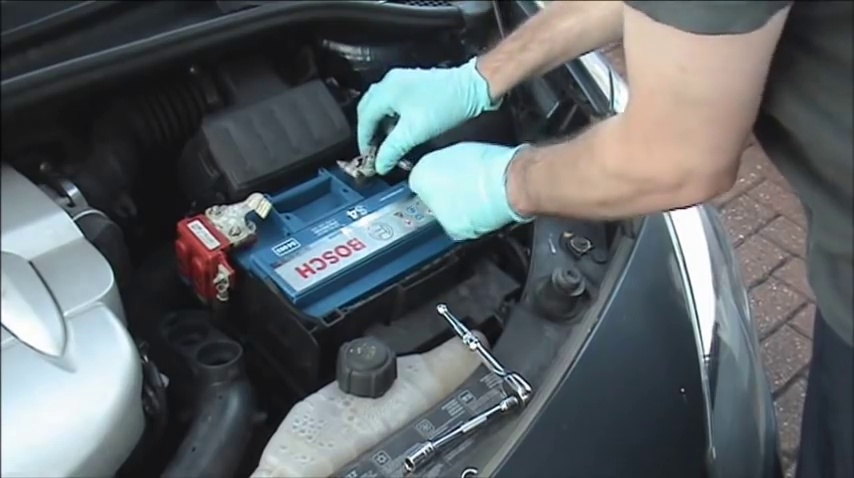battery: (182, 150, 457, 301)
neg_touched: (333, 105, 432, 203)
pos_connected: (184, 183, 284, 295)
